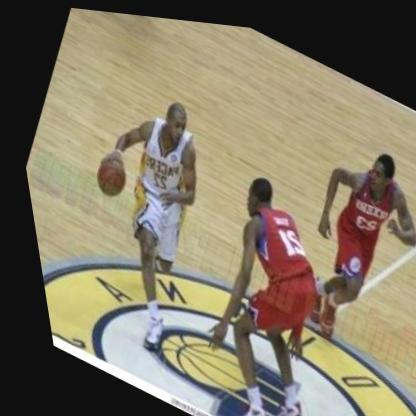basketball: (78, 144, 136, 206)
